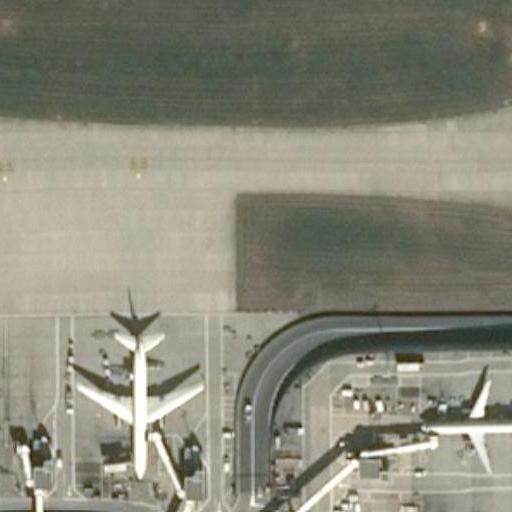Aircraft: (74, 325, 204, 477), (420, 376, 512, 473)
